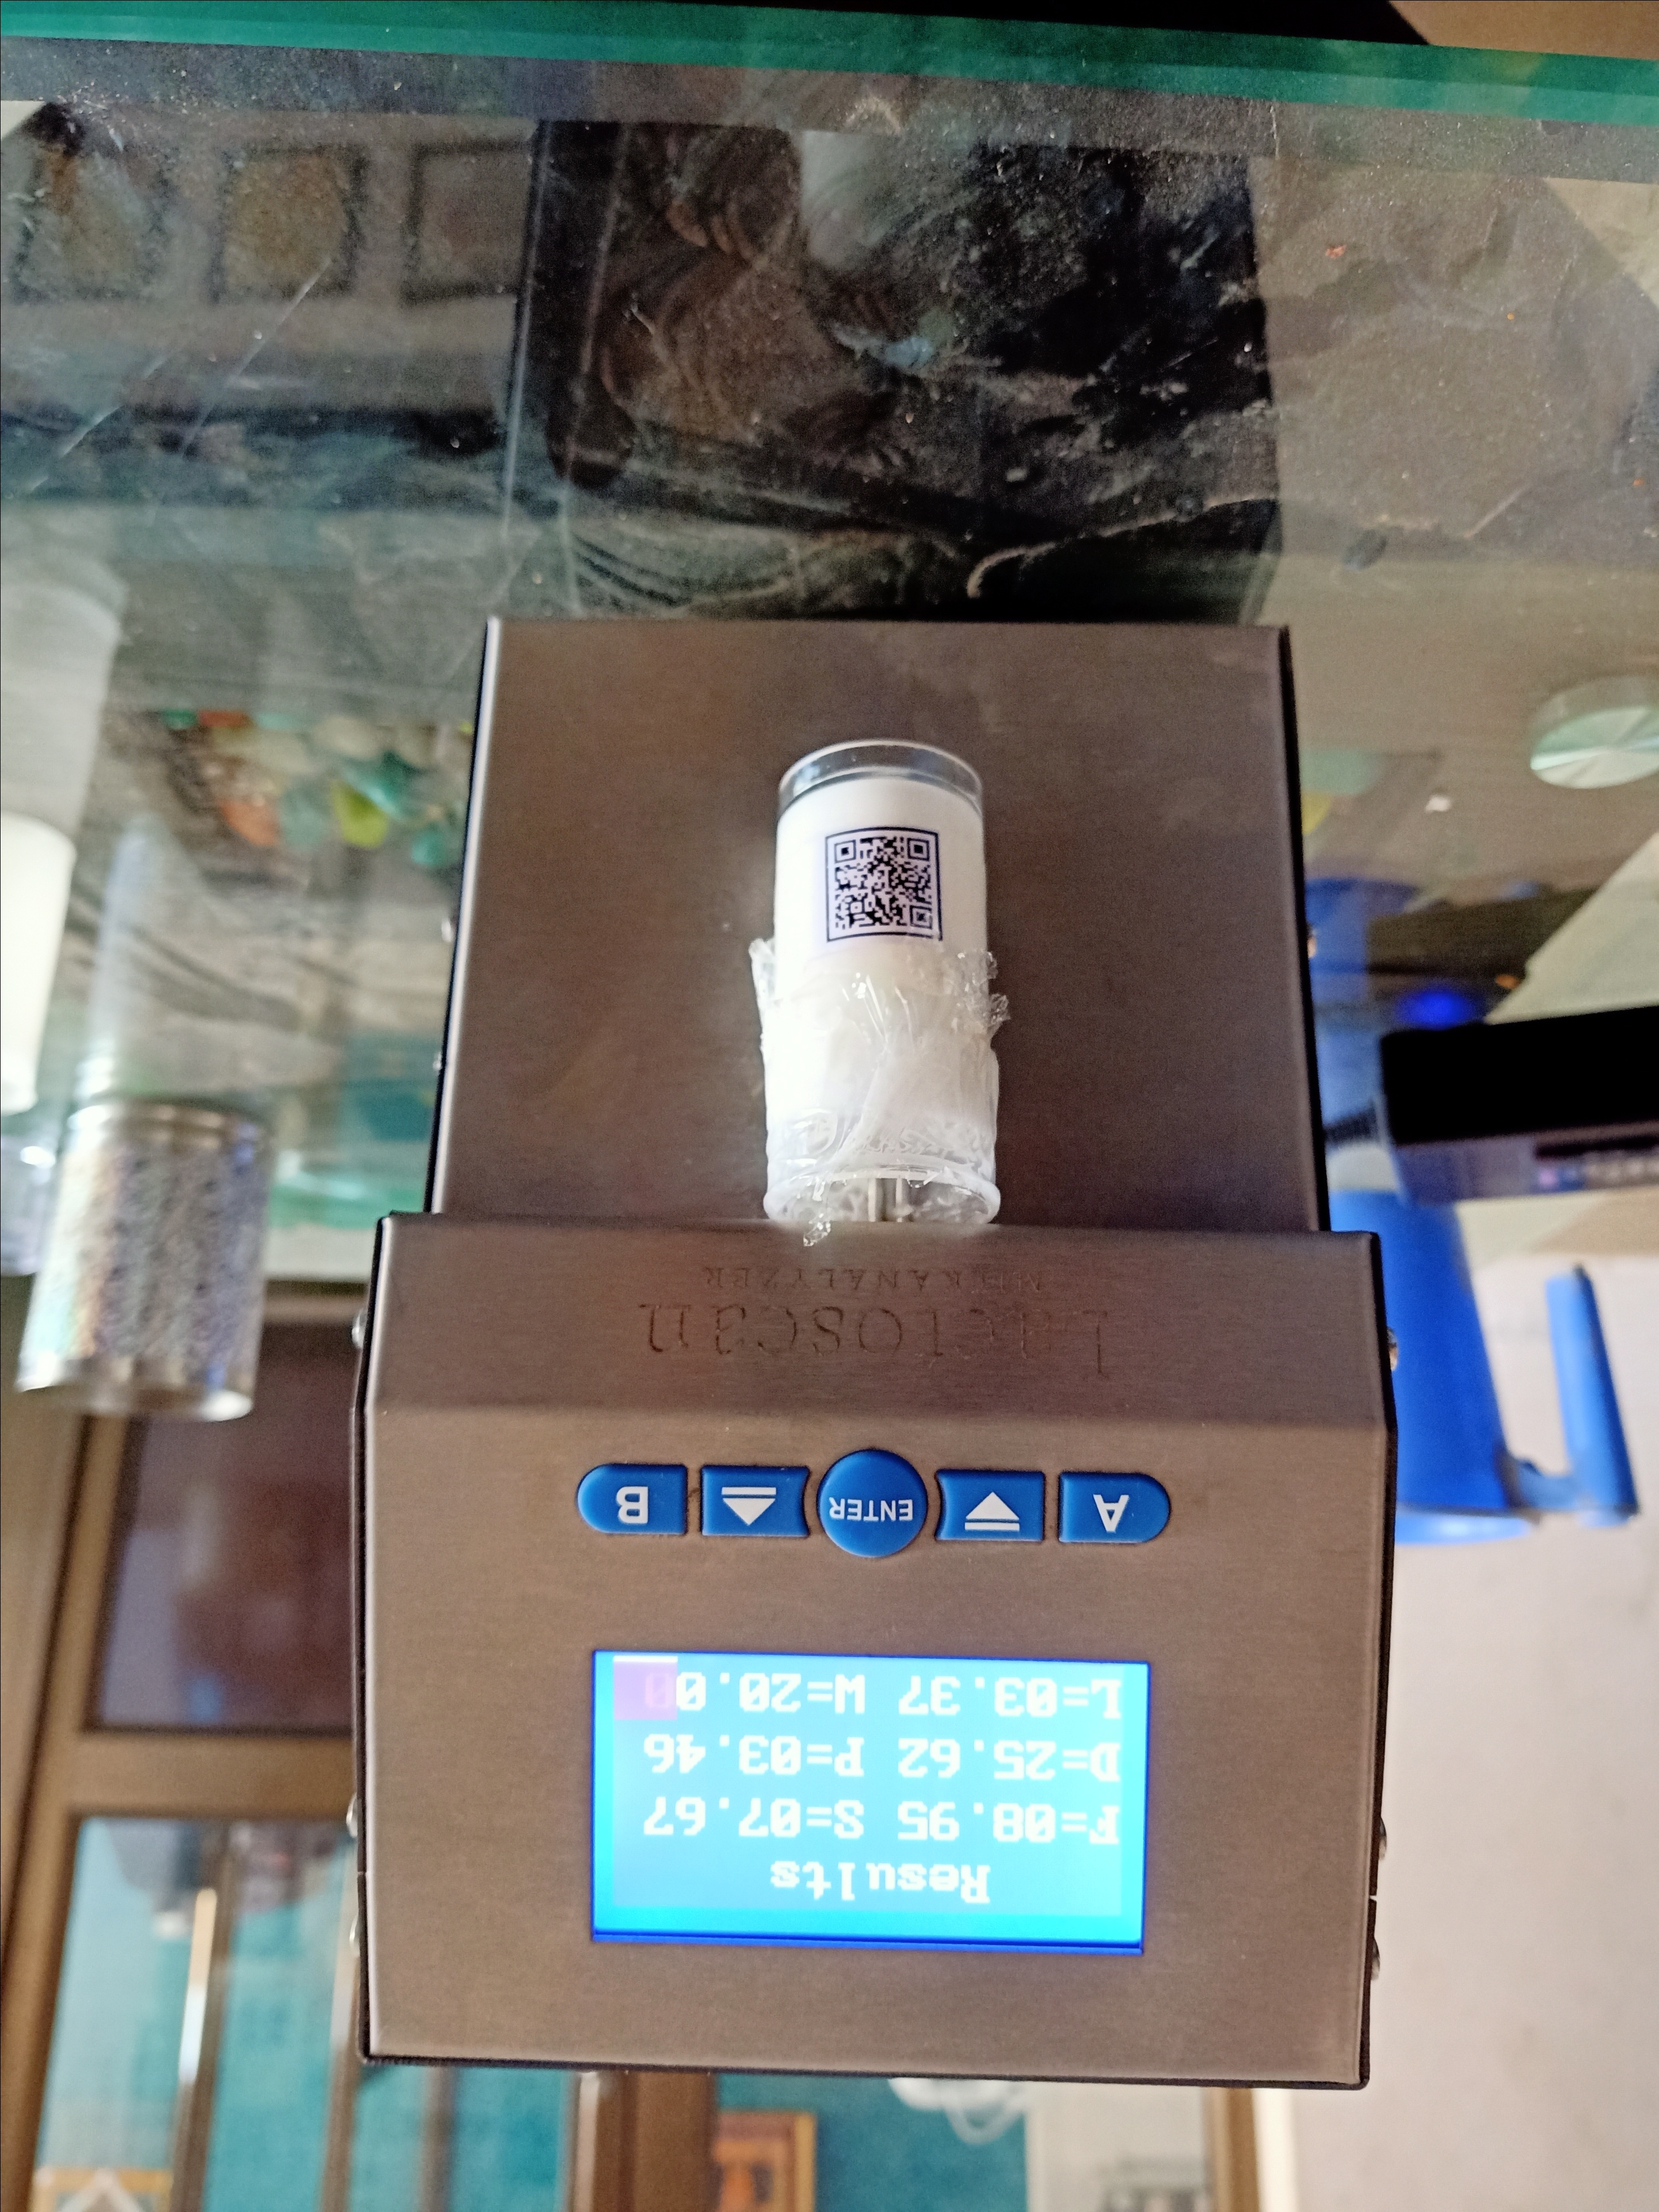lcd: (586, 1618, 1173, 1984)
qr: (814, 822, 962, 972)
